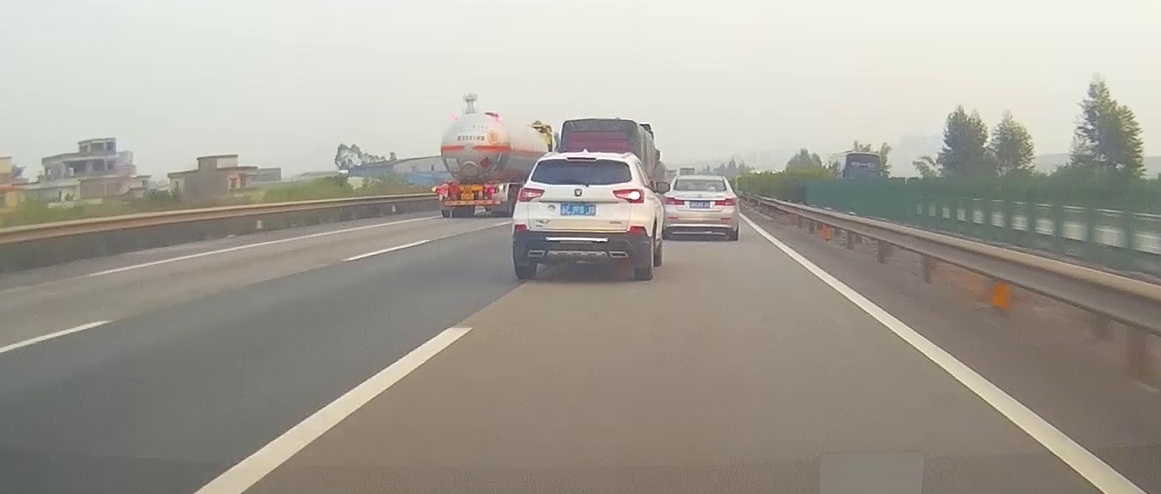L_light: (518, 187, 545, 202), (664, 196, 685, 205), (437, 189, 448, 194)
R_light: (613, 188, 645, 203), (715, 196, 737, 206), (486, 187, 499, 193)
T_light: (567, 156, 598, 161), (694, 178, 706, 182), (463, 185, 473, 188)
day-brake: (433, 183, 508, 218)
day-no: (663, 174, 739, 241)
day-right: (512, 151, 652, 279)
